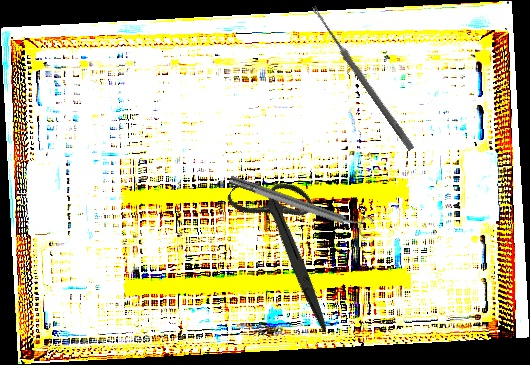Fixation Ring: (226, 167, 375, 241)
Iris Scissors: (194, 157, 382, 333)
Surgical Spoon: (309, 4, 416, 152)
